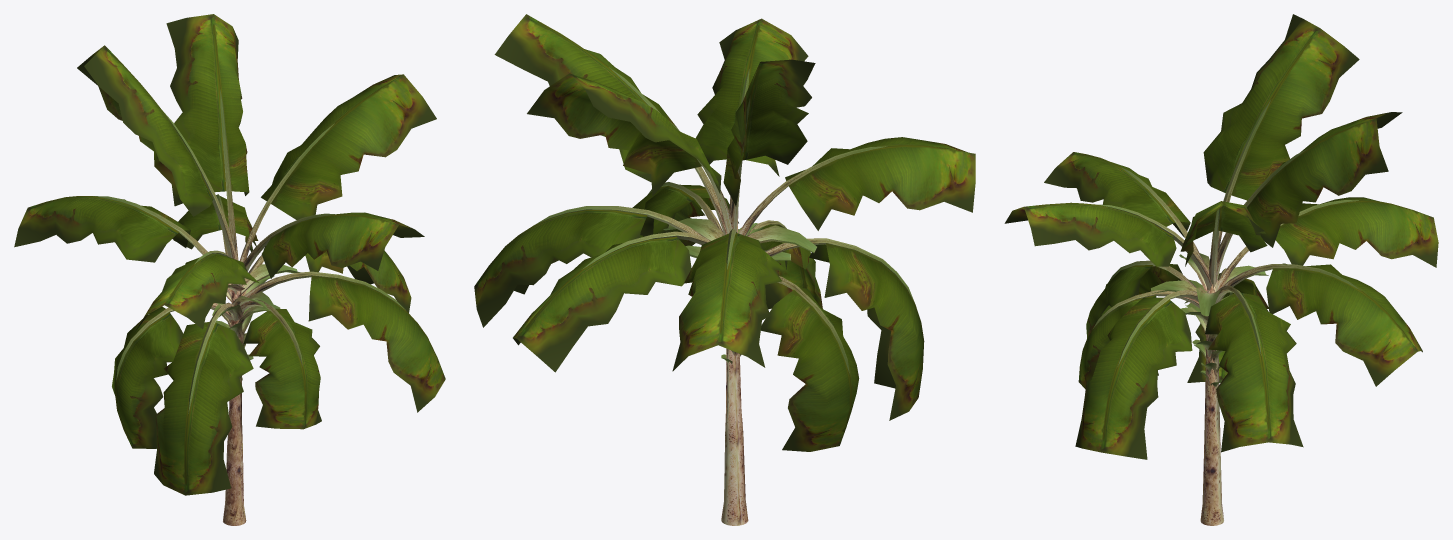
3 renders of one model, left to right at view 1: azimuth 30°, elevation 25°; view 2: azimuth 150°, elevation 25°; view 3: azimuth 270°, elevation 25°, orthographic. The views are drawn at different scales.
Visible parts, largest first — view 1: Tree_1, Tree_3, Tree_0, Tree_2; view 2: Tree_1, Tree_3, Tree_0, Tree_2; view 3: Tree_1, Tree_3, Tree_0, Tree_2.
Boxes of the visible parts, left/top/right/bottom form: Tree_1: left=14, top=14, right=445, bottom=495; Tree_3: left=93, top=89, right=405, bottom=413; Tree_0: left=223, top=290, right=246, bottom=525; Tree_2: left=212, top=264, right=300, bottom=382; Tree_1: left=474, top=14, right=975, bottom=451; Tree_3: left=535, top=67, right=914, bottom=374; Tree_0: left=721, top=349, right=748, bottom=525; Tree_2: left=663, top=218, right=816, bottom=367; Tree_1: left=1004, top=14, right=1438, bottom=459; Tree_3: left=1093, top=99, right=1360, bottom=366; Tree_0: left=1200, top=280, right=1223, bottom=525; Tree_2: left=1151, top=253, right=1268, bottom=388.
Bounding box in the file's own units: 1.77 × 2.2 × 1.89.
4 materials, 4 textured.
